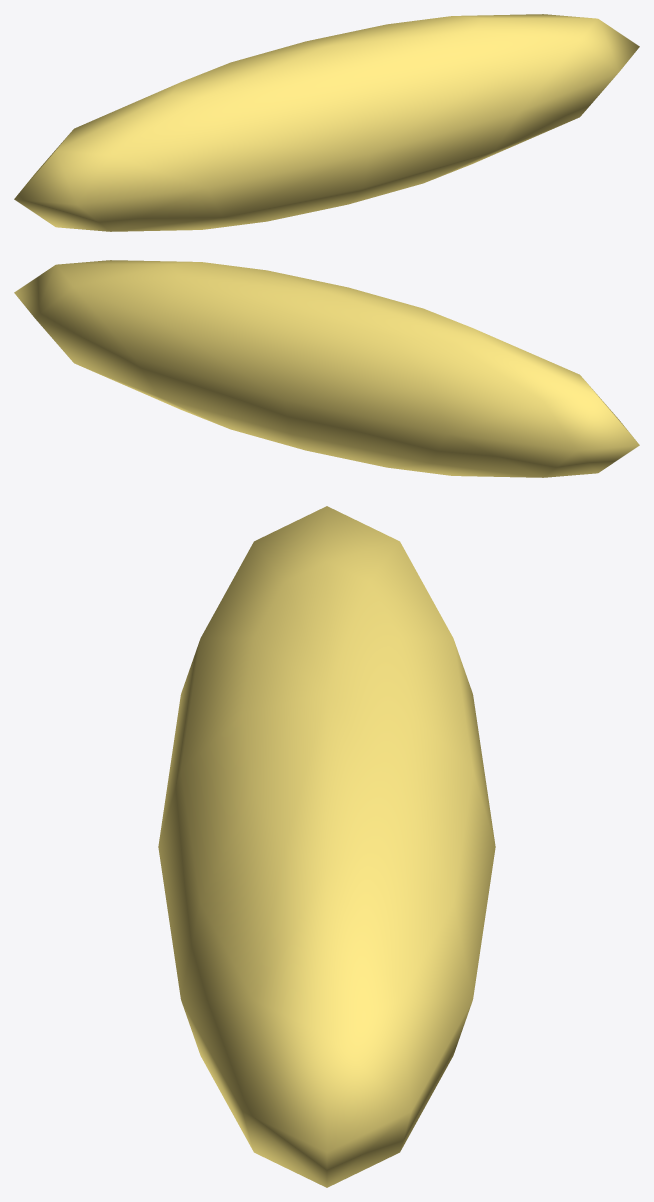
File: MiningLaser.fbx
The picture shows the model from 3 angles, top to bottom: view 1: azimuth 30°, elevation 25°; view 2: azimuth 150°, elevation 25°; view 3: azimuth 270°, elevation 25°; orthographic projection. The views are drawn at different scales.
Parts seen in each view (by area): view 1: mining_beam; view 2: mining_beam; view 3: mining_beam.
Part boxes in pixels (x1,y1,x2,y2): mining_beam: [14, 14, 639, 231]; mining_beam: [14, 260, 639, 477]; mining_beam: [158, 506, 495, 1187].
Size of the model in its own units: 0.6 by 0.14 by 0.14.
